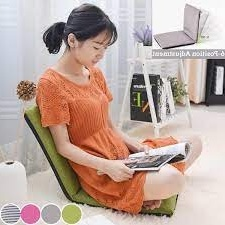not_fallen: (32, 5, 203, 214)
